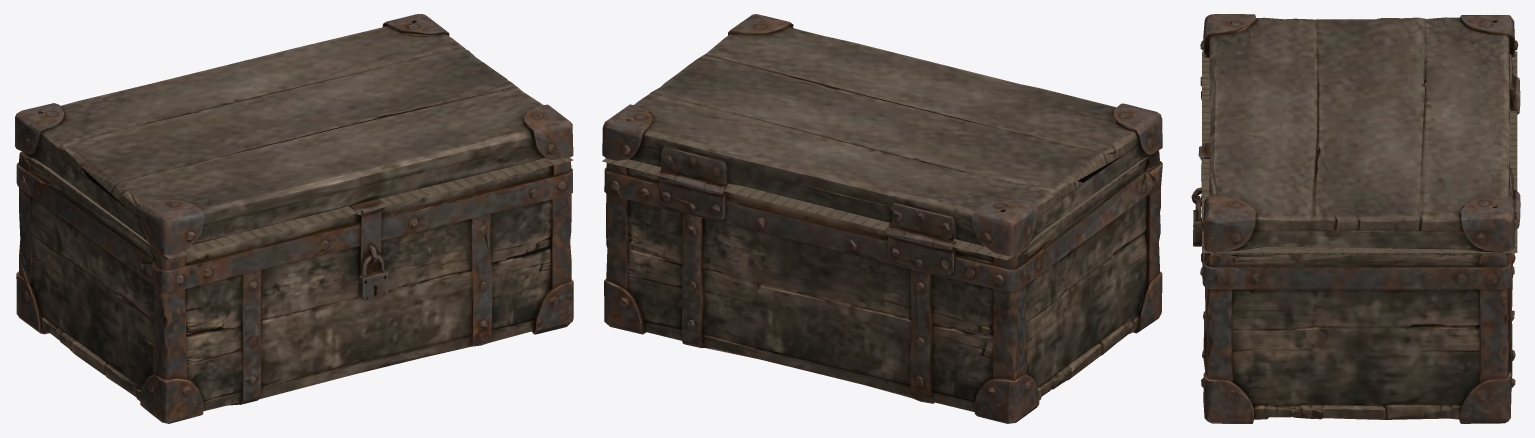
The model's file is chest.glb.
The picture shows the model from 3 angles, left to right: view 1: azimuth 30°, elevation 25°; view 2: azimuth 150°, elevation 25°; view 3: azimuth 270°, elevation 25°; orthographic projection.
Parts seen in each view (by area): view 1: chest_base, chest_lid; view 2: chest_base, chest_lid; view 3: chest_lid, chest_base.
Boxes of the visible parts, x1,y1,x2,y2 form: chest_base: (16, 151, 573, 423); chest_lid: (15, 14, 573, 258); chest_base: (602, 151, 1162, 423); chest_lid: (602, 14, 1162, 259); chest_lid: (1198, 14, 1520, 252); chest_base: (1191, 76, 1520, 423).
Size of the model in its own units: 0.9506 by 0.4563 by 0.6406.
Materials: 2 (2 with a texture image).
